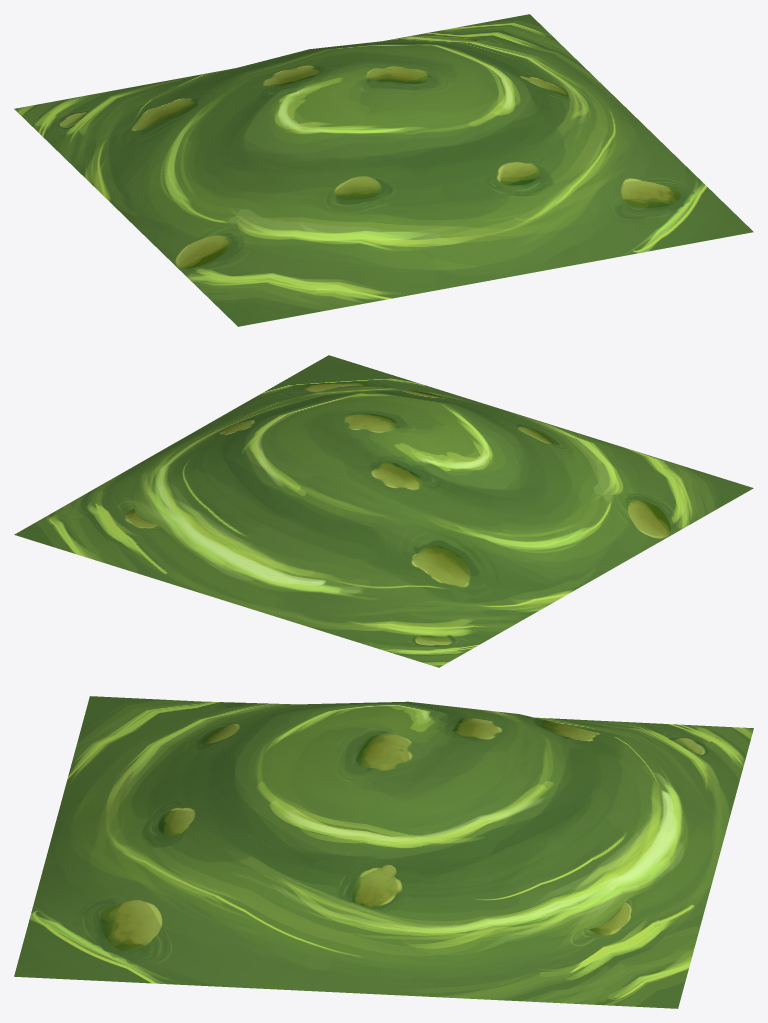
The model's file is bathroom_dirtpile_V01.glb.
3 renders of one model, top to bottom at view 1: azimuth 30°, elevation 25°; view 2: azimuth 150°, elevation 25°; view 3: azimuth 270°, elevation 25°, orthographic. The views are drawn at different scales.
Parts seen in each view (by area): view 1: InhaltToilette1.002; view 2: InhaltToilette1.002; view 3: InhaltToilette1.002.
Boxes of the visible parts, x1,y1,x2,y2 form: InhaltToilette1.002: [14, 14, 753, 326]; InhaltToilette1.002: [14, 355, 753, 667]; InhaltToilette1.002: [14, 696, 753, 1008].
Bounding box in the file's own units: 0.3483 × 0.0594 × 0.3483.
Materials: 1 (1 with a texture image).
